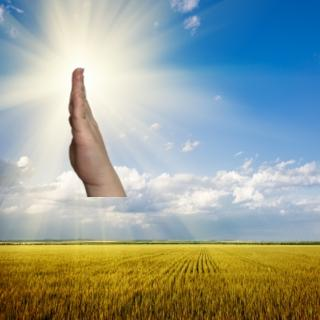RIGHT: (64, 63, 120, 183)
